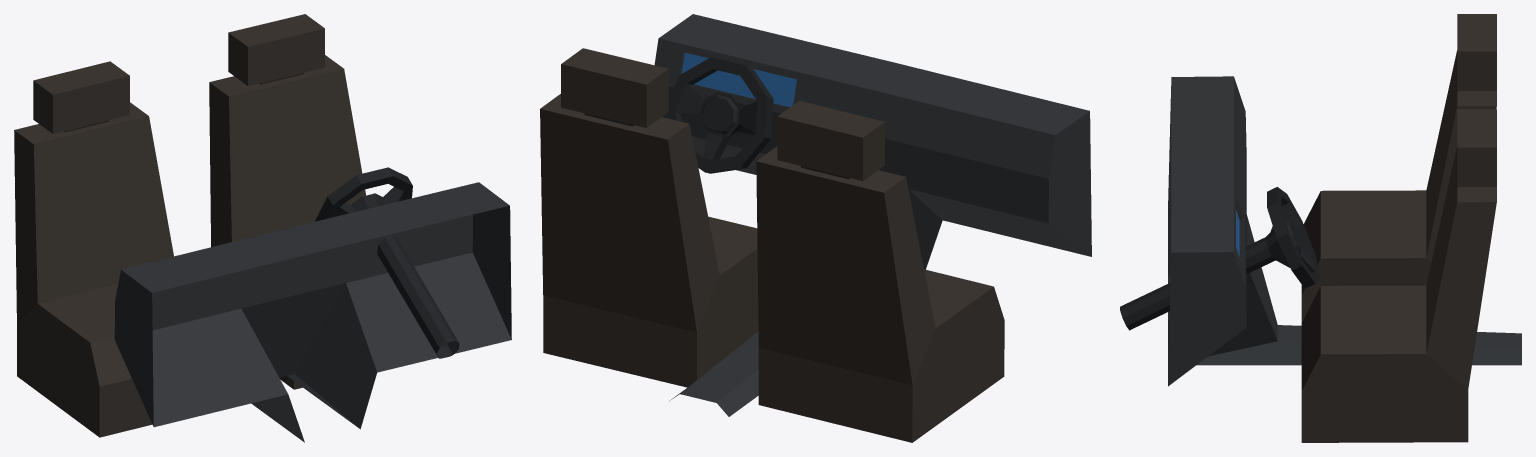
Rendered from interior_lev3.glb.
3 renders of one model, left to right at view 1: azimuth 30°, elevation 25°; view 2: azimuth 150°, elevation 25°; view 3: azimuth 270°, elevation 25°, orthographic. The views are drawn at different scales.
Visible parts, largest first — view 1: interior_lev3; view 2: interior_lev3; view 3: interior_lev3.
Part boxes in pixels (<box>): interior_lev3: <box>14,14,511,442</box>; interior_lev3: <box>540,14,1091,442</box>; interior_lev3: <box>1120,14,1521,442</box>.
Size of the model in its own units: 4.77 by 3.56 by 4.61.
Materials: 1 (1 with a texture image).
